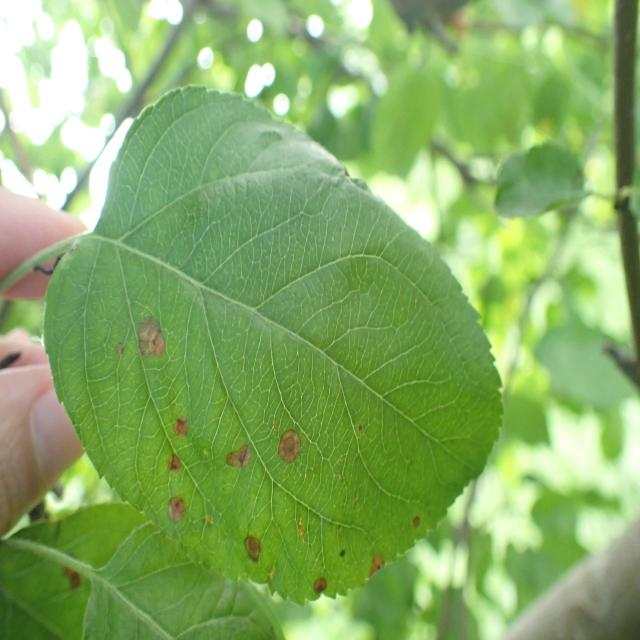Black Rot: (133, 304, 175, 370), (270, 419, 310, 473), (230, 526, 270, 570), (154, 488, 198, 524), (161, 438, 192, 488), (217, 435, 258, 472), (294, 568, 338, 600), (364, 540, 388, 582), (170, 415, 197, 444)
